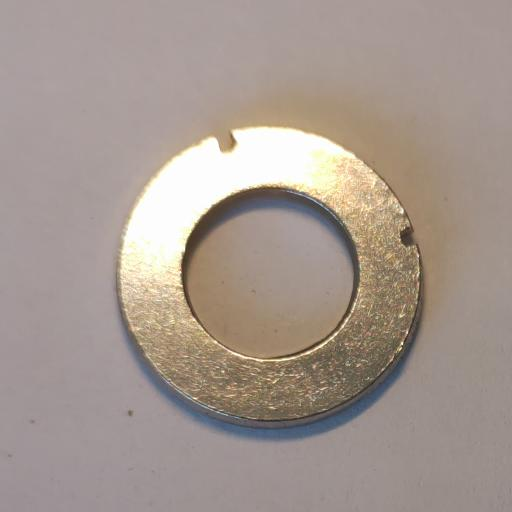burr: (212, 127, 239, 155), (399, 223, 419, 251)
